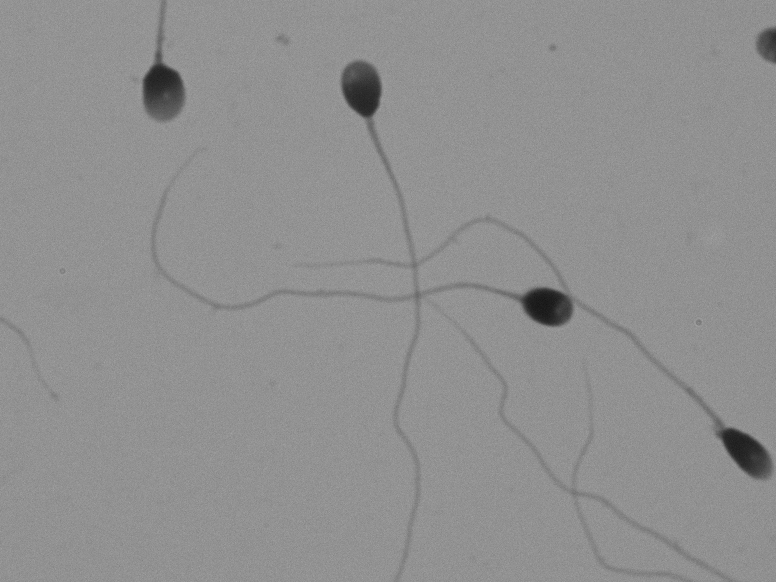Abnormal: (615, 274, 773, 542), (86, 13, 234, 138)
Normal: (120, 150, 589, 390), (311, 45, 451, 563)
